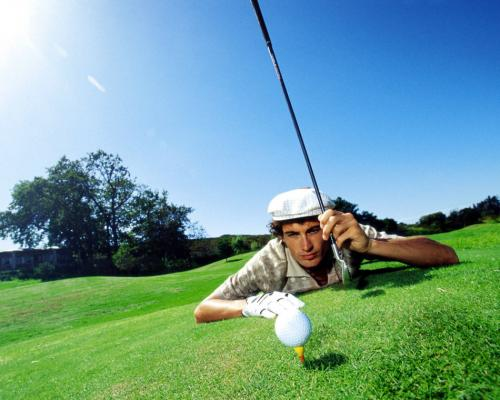fall: (200, 168, 497, 347)
